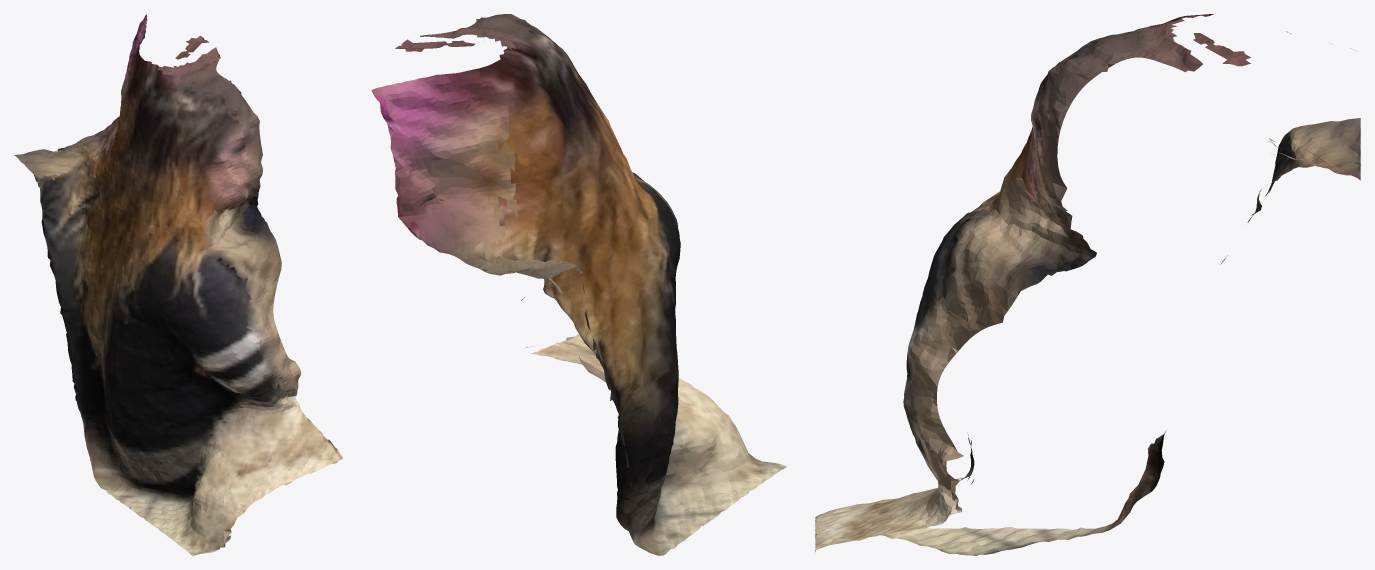
The picture shows the model from 3 angles, left to right: view 1: azimuth 30°, elevation 25°; view 2: azimuth 150°, elevation 25°; view 3: azimuth 270°, elevation 25°; orthographic projection. The views are drawn at different scales.
Bounding box in the file's own units: 0.3291 × 0.7952 × 0.6766.
Materials: 1 (1 with a texture image).
